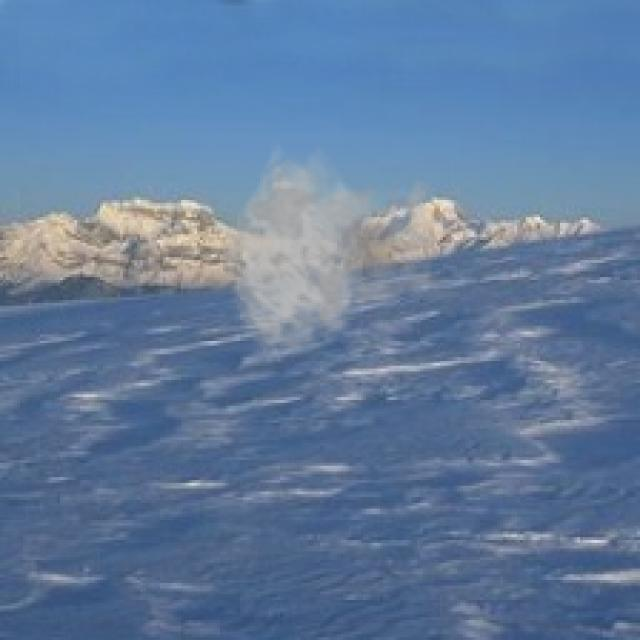Smoke: (219, 140, 452, 363)
